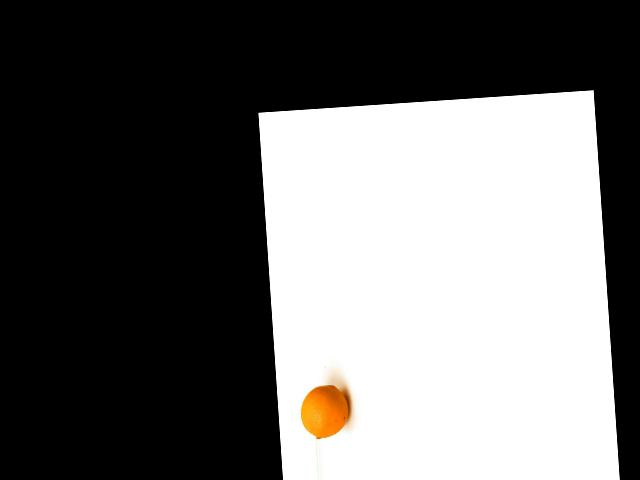lemon: (297, 376, 357, 440)
